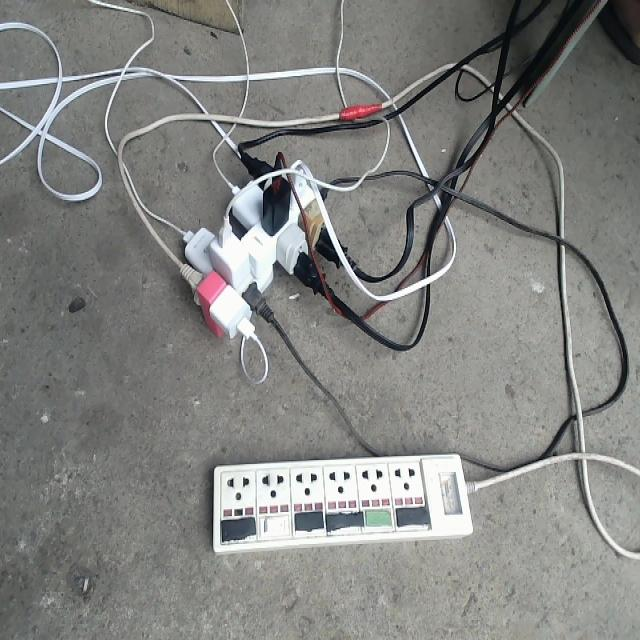-: (175, 147, 354, 345)
